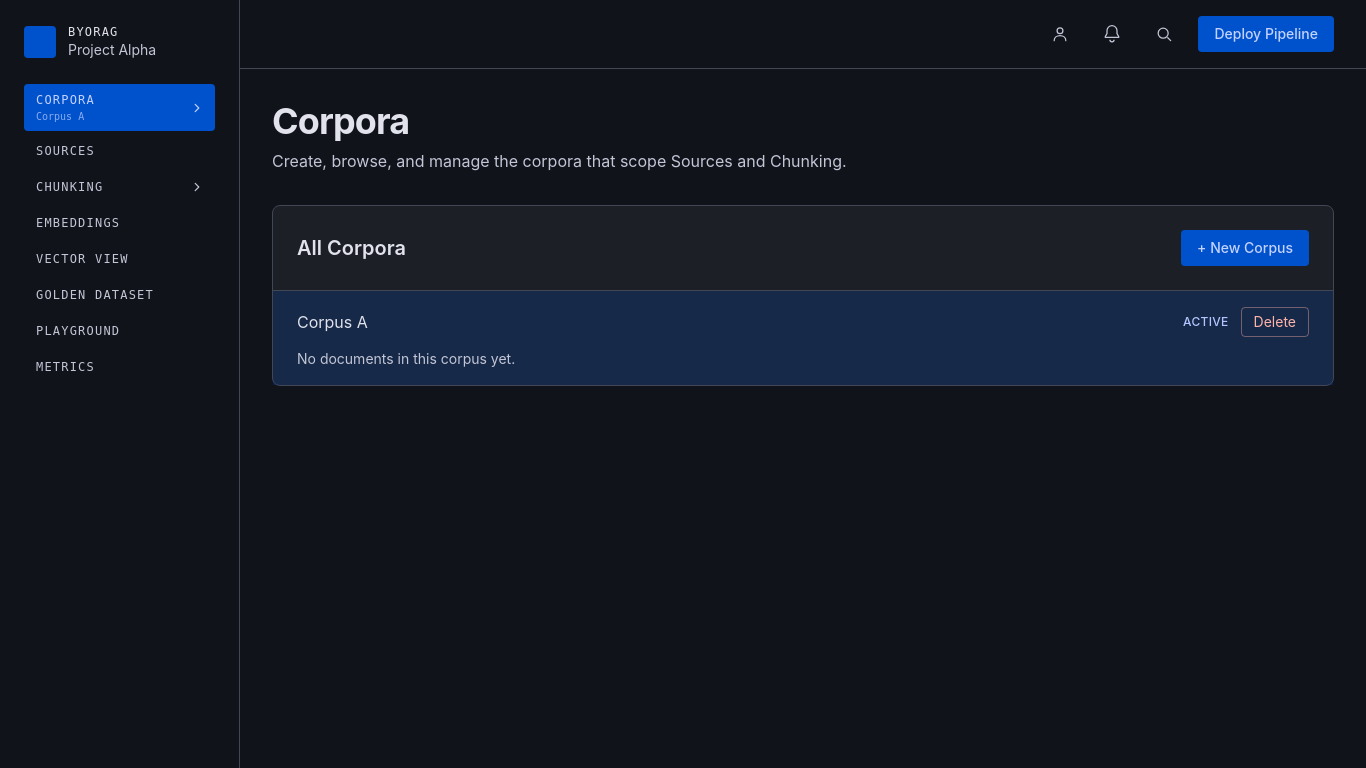
it: CorporaScreen corpus deletion (009-corpora-screen US4, relocated per-row in 011-move-corpus-row-actions) › blocks deletion of a non-empty corpus via its row's own Delete action, with a clear message
expect the list item with test id "corpus-row-corpus-a" is shown: met, box [273,291,1333,385]
Click the button with aria-label "delete corpus a": click(1275, 322) [1241,307,1309,337]
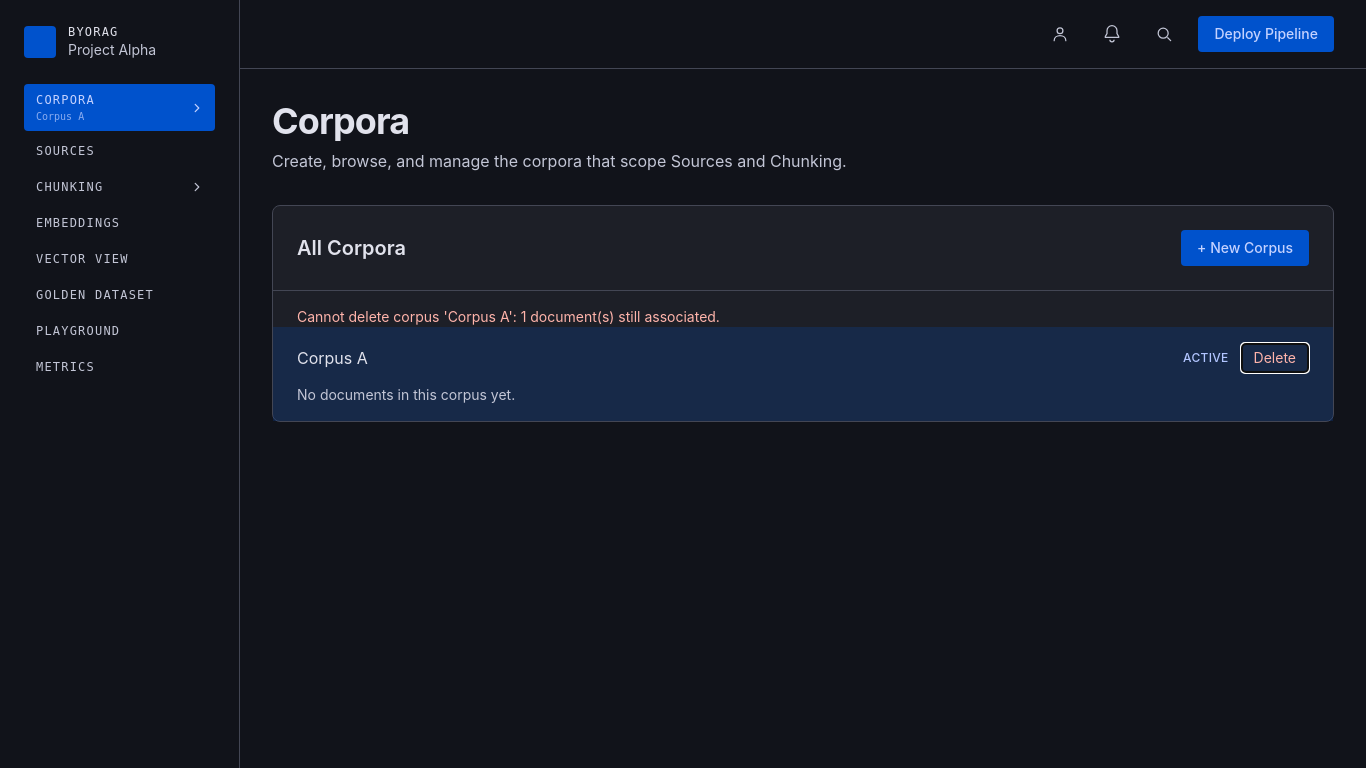
expect the list item with test id "corpus-row-corpus-a" is shown: met, box [273,327,1333,421]
expect the message shows "still associated": met, box [297,308,720,325]
